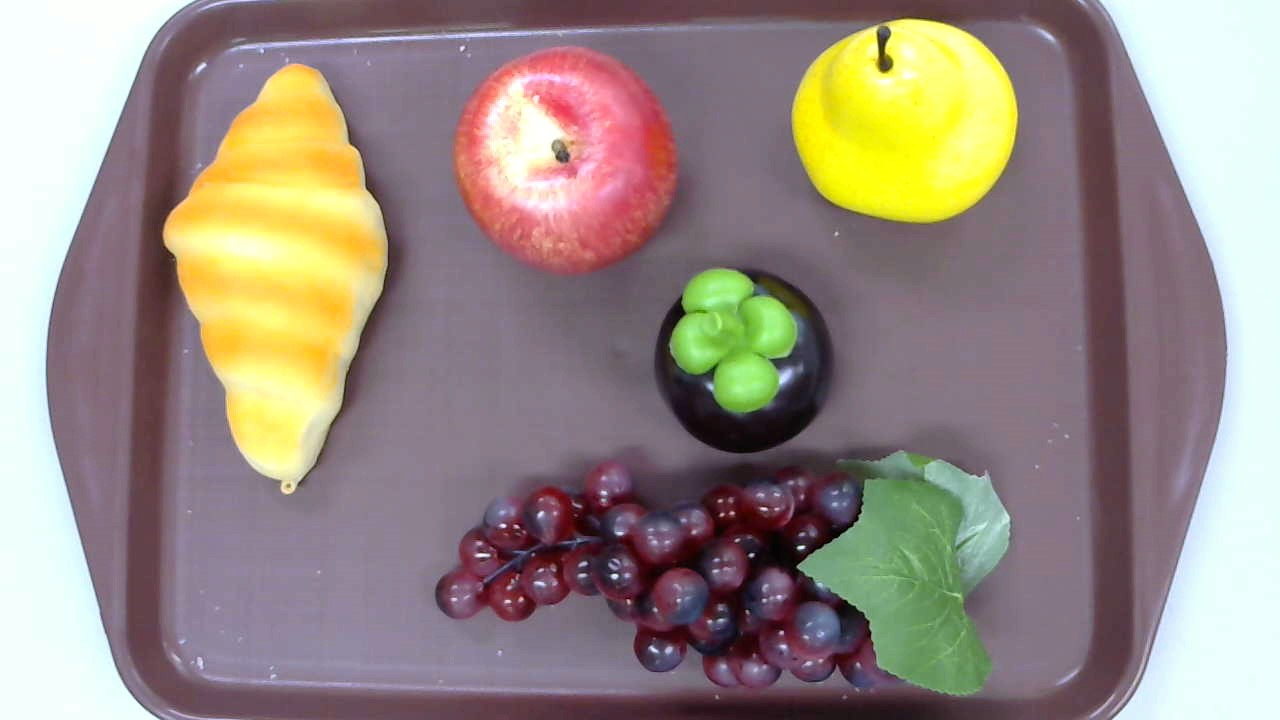croissant: (161, 63, 389, 493)
grape: (435, 450, 1012, 700)
mangosteen: (652, 266, 833, 458)
red apple: (453, 44, 680, 276)
yellow pear: (791, 19, 1019, 223)
